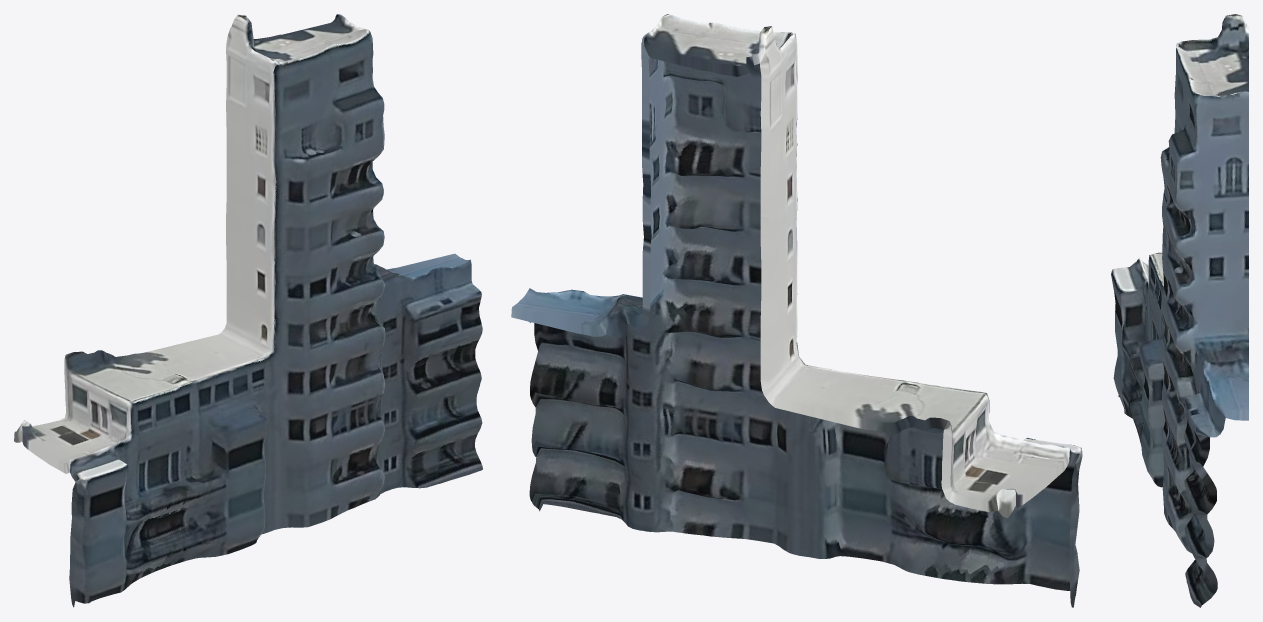
File: z20-167716-405198-h1-yup-uvflip-v3-world.glb
3 views of the same model, side by side, from view 1: azimuth 30°, elevation 25°; view 2: azimuth 150°, elevation 25°; view 3: azimuth 270°, elevation 25° (orthographic). The views are drawn at different scales.
Bounding box in the file's own units: 30.24 × 32.72 × 8.32.
Materials: 1 (1 with a texture image).
